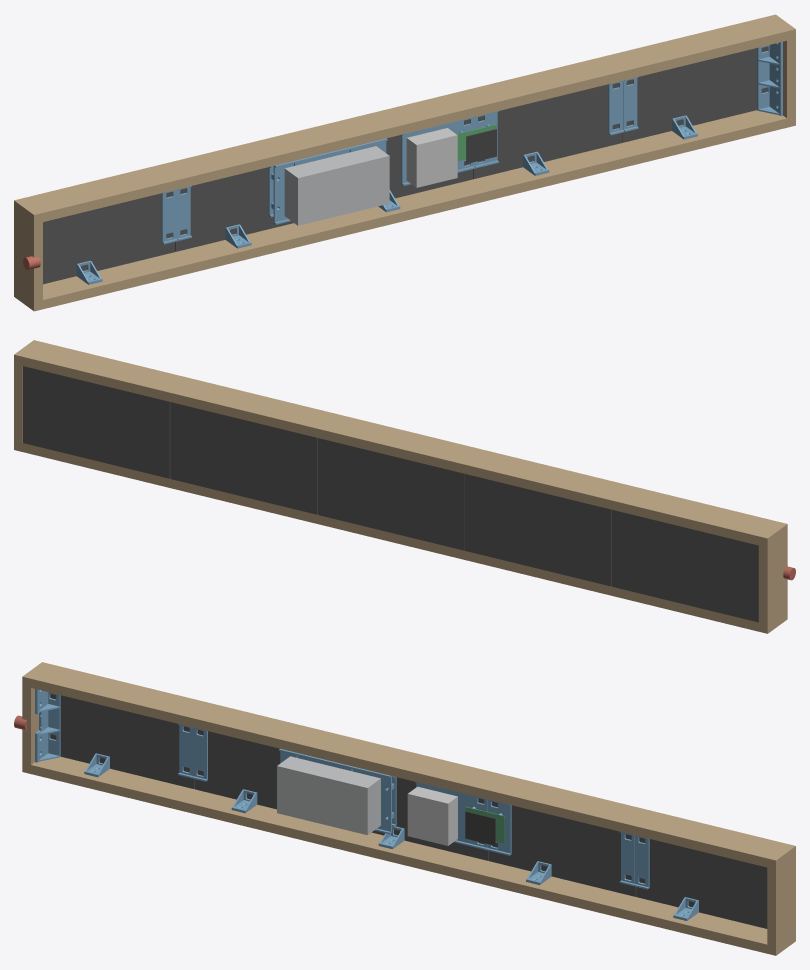
Rendered from ticker-assembly.glb.
3 renders of one model, top to bottom at view 1: azimuth 30°, elevation 25°; view 2: azimuth 150°, elevation 25°; view 3: azimuth 330°, elevation 25°, orthographic.
Visible parts, largest first — view 1: wood, panel, print, psu, fuse, bonnet; view 2: panel, wood; view 3: wood, panel, print, psu, fuse, bonnet.
Part boxes in pixels (x1,y1,x2,y2): wood: (14, 14, 795, 311); panel: (43, 46, 767, 284); print: (76, 41, 782, 284); psu: (284, 146, 389, 225); fuse: (406, 128, 457, 187); bonnet: (466, 129, 496, 163); panel: (23, 366, 758, 622); wood: (14, 340, 787, 633); wood: (22, 662, 795, 955); panel: (50, 693, 767, 928); print: (35, 689, 698, 920); psu: (277, 756, 380, 835); fuse: (407, 786, 457, 845); bonnet: (465, 811, 495, 845).
Size of the model in its own units: 1.65 by 0.198 by 0.087.
